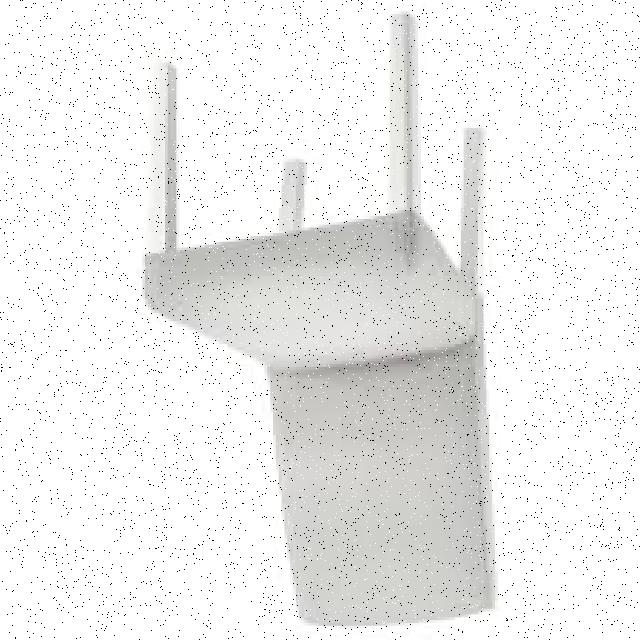bottle: (140, 14, 505, 632)
